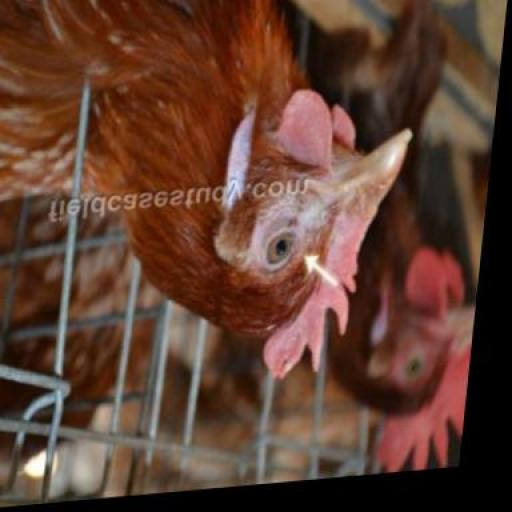healthy: (191, 109, 376, 312)
